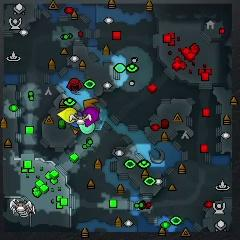p1: (68, 111, 82, 128)
p2: (80, 121, 95, 134)
p3: (84, 107, 100, 127)
p4: (57, 107, 77, 123)
p5: (71, 127, 80, 135)
x5: (83, 98, 100, 112)
